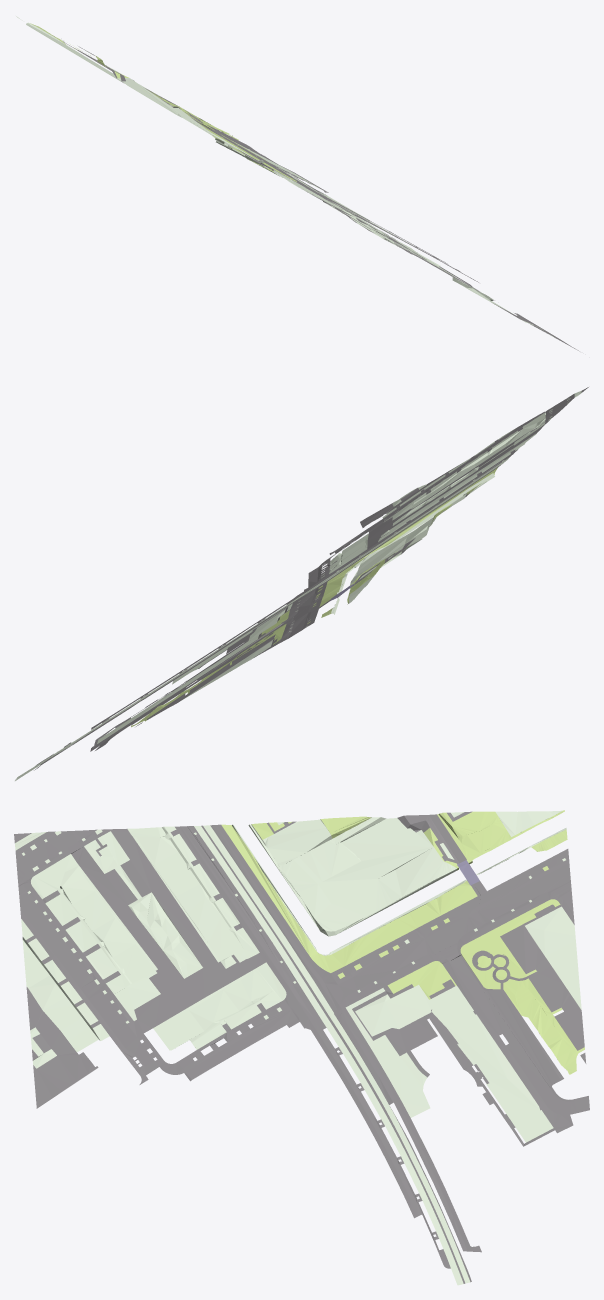
3 views of the same model, one above another, from view 1: azimuth 30°, elevation 25°; view 2: azimuth 150°, elevation 25°; view 3: azimuth 270°, elevation 25° (orthographic). The views are drawn at different scales.
Size of the model in its own units: 193 by 149 by 260.
